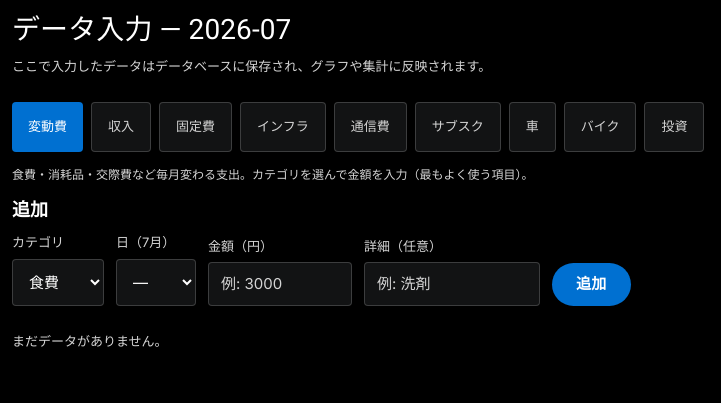
Scenario: EntryTab - スマホで追加フォームを中央にパッと表示 › サブタブ（収入・通信費）を押すとそのタブのフォームを中央へ
Expected: the text "まだデータがありません。" is shown, [12,333,168,349]
Step 1. Click the button "収入" → click(121, 127), box [91,102,151,152]
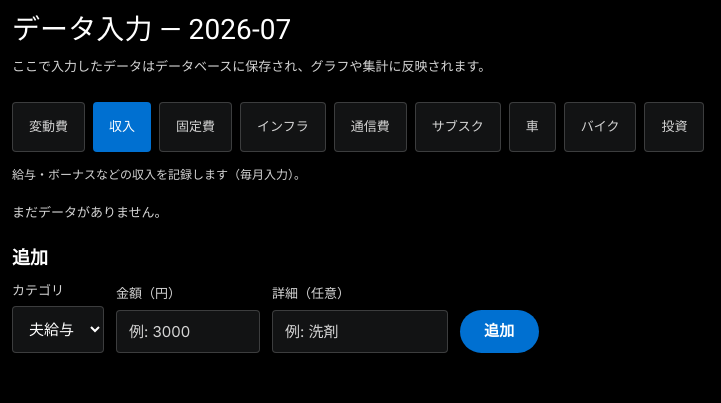
Expected: the text "まだデータがありません。" is shown, [12,204,168,220]
Step 2. Click the button "通信費" → click(370, 127), box [334,102,407,152]
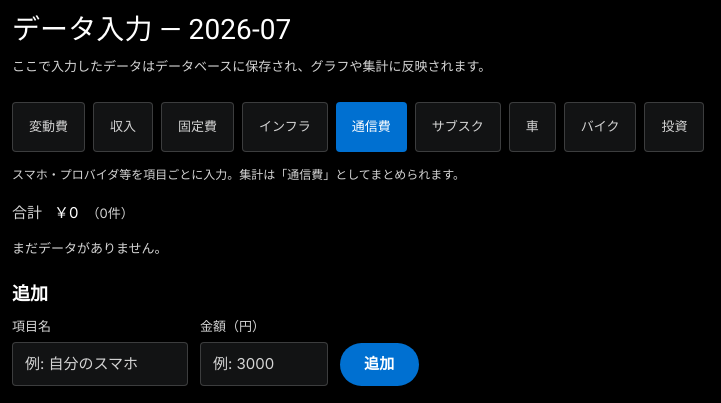
Expected: the text "まだデータがありません。" is shown, [12,240,168,256]
Now the field with placeholder "例: 自分のスマホ" is shown, box [12,342,188,386]
